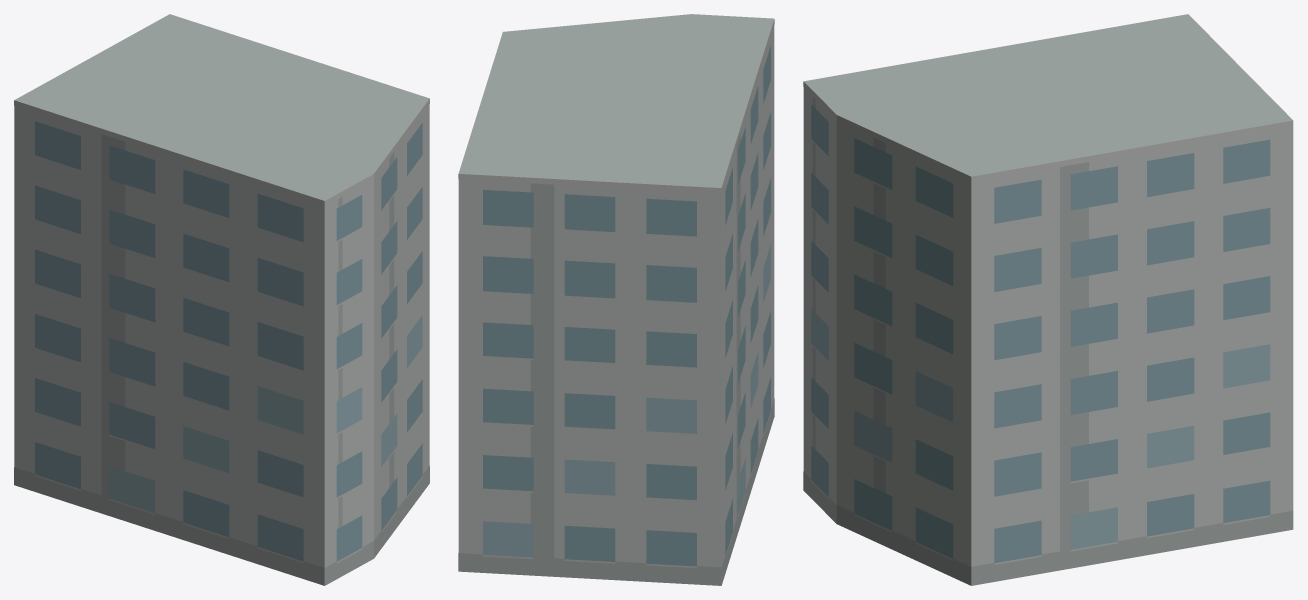
Rendered from survey-upis-32610346.glb.
3 renders of one model, left to right at view 1: azimuth 30°, elevation 25°; view 2: azimuth 150°, elevation 25°; view 3: azimuth 270°, elevation 25°, orthographic. The views are drawn at different scales.
Visible parts, largest first — view 1: survey-upis-32610346.tmp; view 2: survey-upis-32610346.tmp; view 3: survey-upis-32610346.tmp.
Boxes of the visible parts, box(x1,y1,x2,y2) form: survey-upis-32610346.tmp: box(14, 14, 429, 585); survey-upis-32610346.tmp: box(458, 14, 774, 585); survey-upis-32610346.tmp: box(803, 14, 1293, 585).
Bounding box in the file's own units: 14.61 × 17.12 × 18.58.
